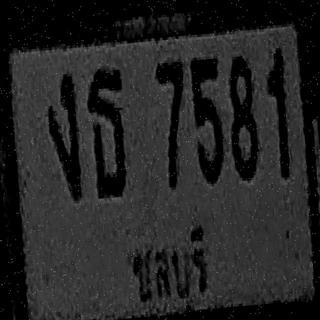A07: (44, 71, 83, 200)
A24: (85, 66, 131, 198)
N01: (264, 48, 293, 178)
N05: (189, 54, 227, 184)
N07: (154, 59, 192, 188)
N08: (224, 54, 260, 180)
P13: (124, 217, 219, 319)
